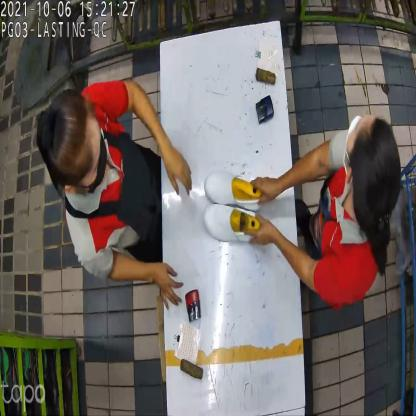shoes: (204, 171, 268, 248)
stamp: (185, 290, 203, 327), (255, 94, 275, 127)
